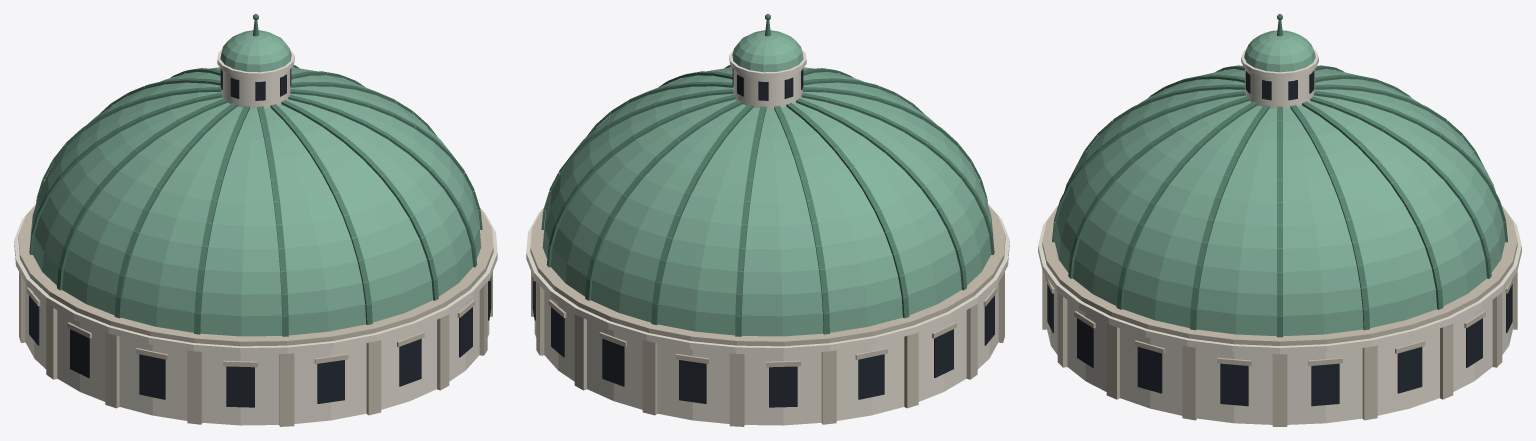
Rendered from im_copper_dome.glb.
3 views of the same model, side by side, from view 1: azimuth 30°, elevation 25°; view 2: azimuth 150°, elevation 25°; view 3: azimuth 270°, elevation 25° (orthographic).
Parts seen in each view (by area): view 1: im_copper_dome; view 2: im_copper_dome; view 3: im_copper_dome.
Part boxes in pixels (<box>): im_copper_dome: <box>14,14,497,426</box>; im_copper_dome: <box>526,14,1009,426</box>; im_copper_dome: <box>1038,14,1521,426</box>.
Bounding box in the file's own units: 23.6 × 16.81 × 23.6.
